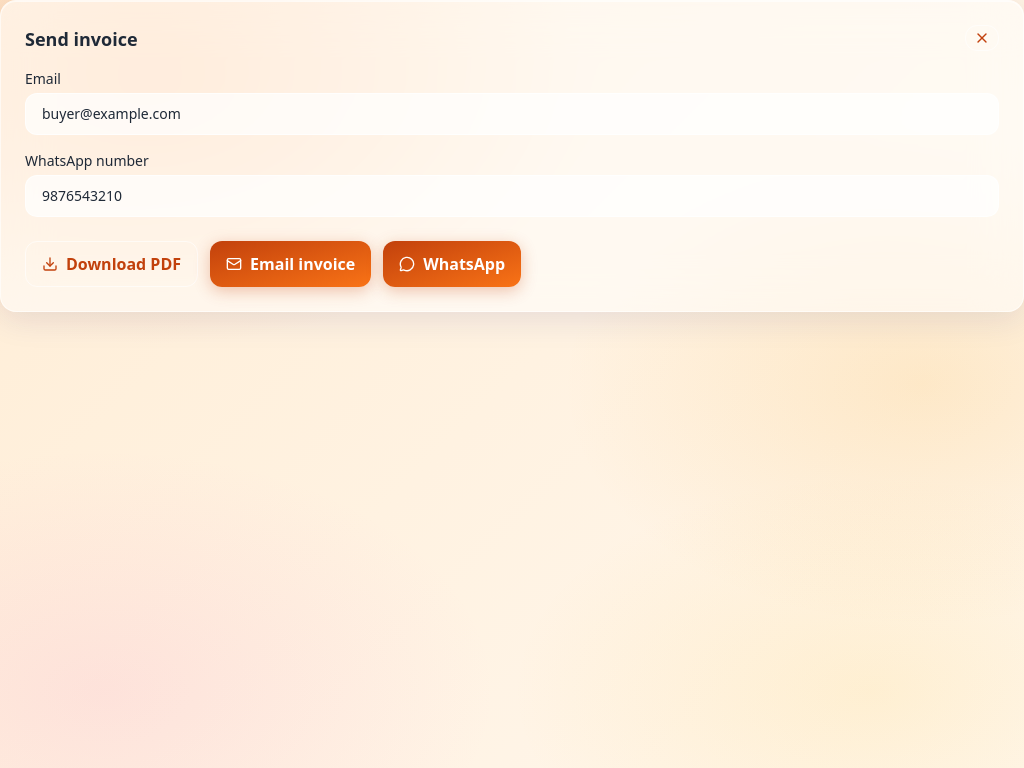
Test: SendInvoiceDialog › shows an error and does not download when PDF generation fails
Click the button "Download PDF".
click(112, 264)  # box [25,241,198,287]
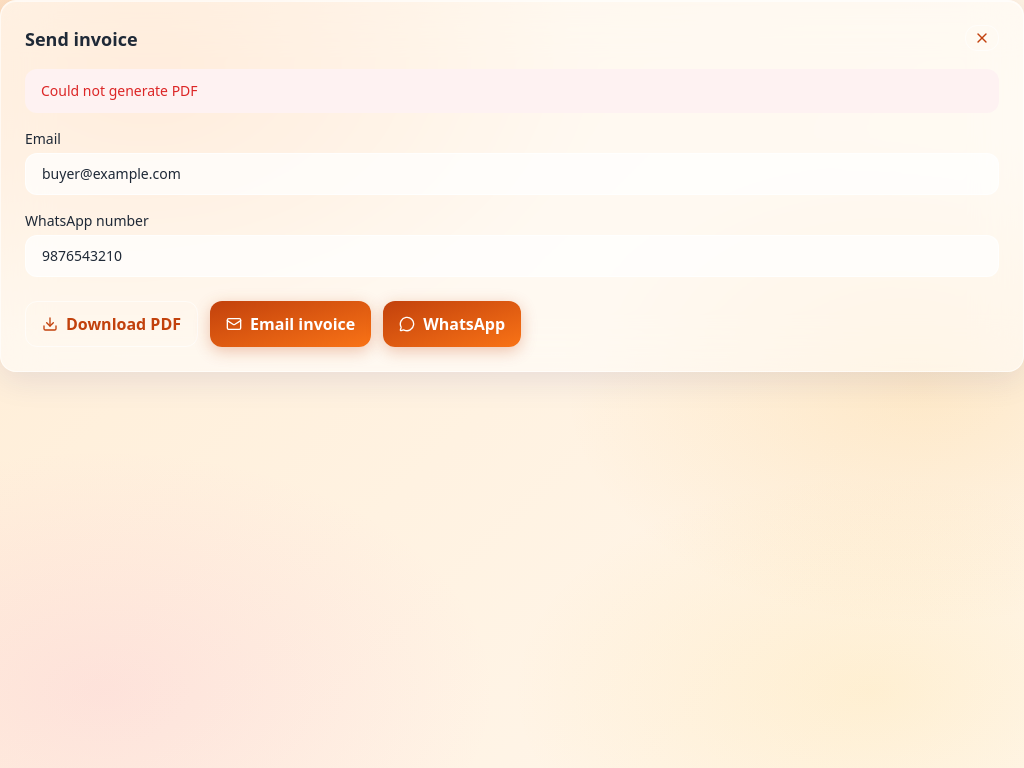
expect the text "Could not generate PDF" is shown: met, box [25,69,999,113]
